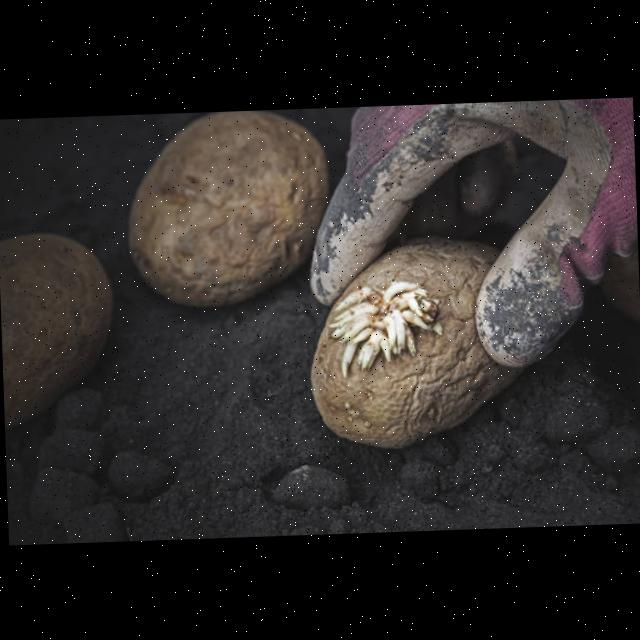Damaged potato: (298, 228, 560, 457), (117, 110, 345, 318)
